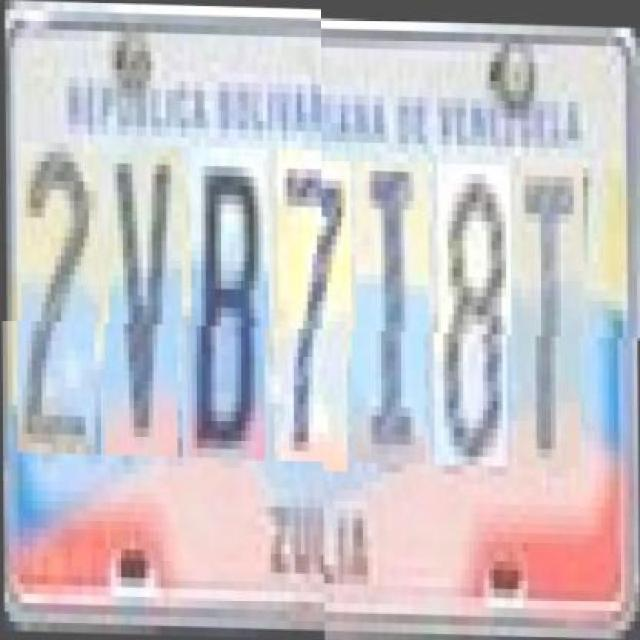2: (20, 151, 100, 464)
7: (278, 158, 352, 470)
8: (438, 161, 512, 464)
b: (191, 155, 269, 468)
i: (356, 158, 430, 462)
t: (520, 153, 585, 465)
v: (108, 153, 182, 465)
